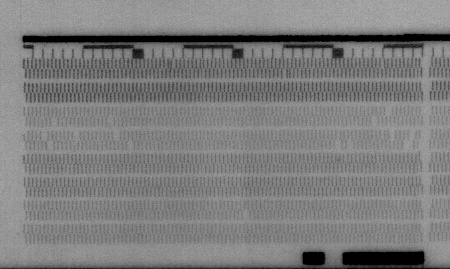Broken hole: (401, 129, 418, 153), (39, 129, 55, 152), (331, 139, 356, 152), (105, 114, 116, 131), (383, 105, 396, 118), (110, 131, 123, 144), (239, 208, 251, 222), (69, 130, 80, 143), (49, 115, 59, 128), (126, 140, 136, 153), (370, 116, 380, 128), (387, 129, 396, 141)
Oblique printing: (166, 56, 179, 71), (280, 67, 293, 82), (378, 57, 391, 72)
